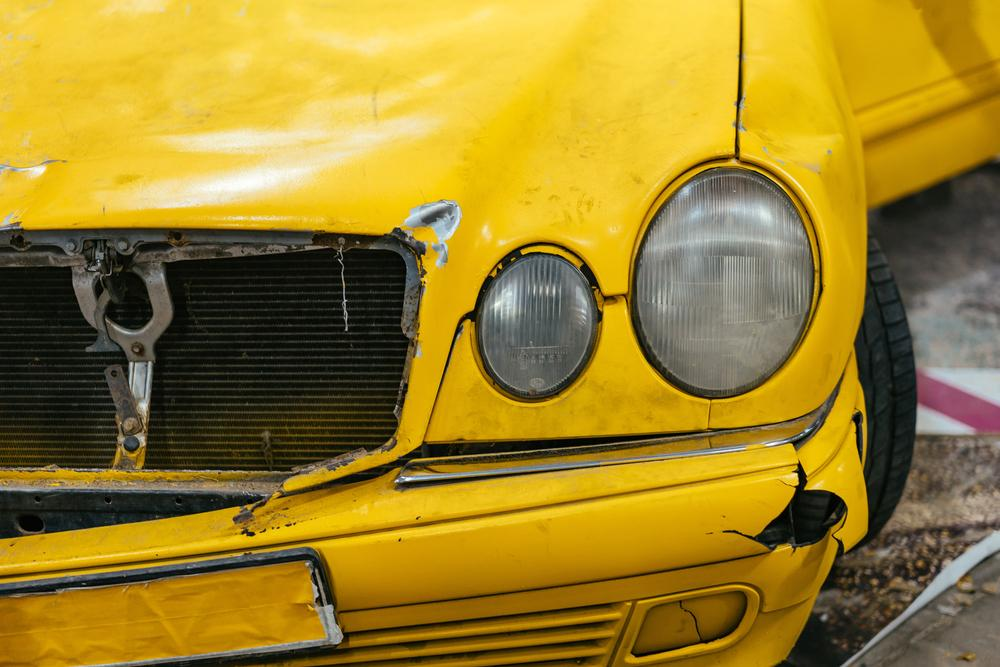crack: (718, 456, 849, 554), (678, 600, 703, 640), (850, 409, 864, 463)
